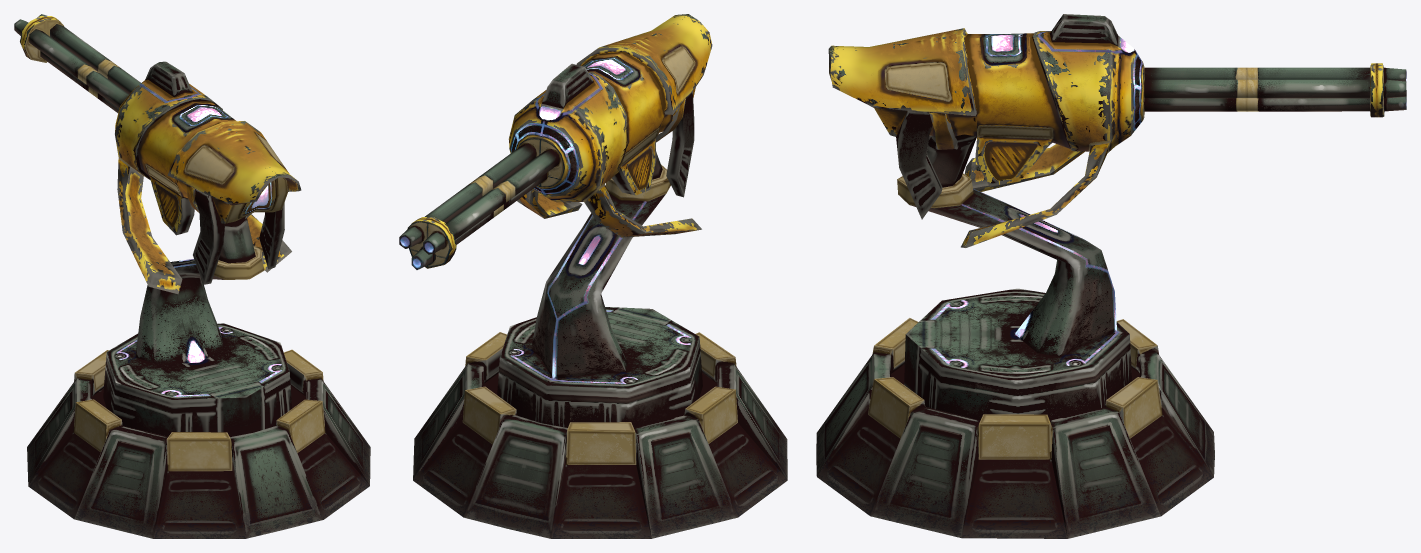
3 renders of one model, left to right at view 1: azimuth 30°, elevation 25°; view 2: azimuth 150°, elevation 25°; view 3: azimuth 270°, elevation 25°, orthographic. The views are drawn at different scales.
Visible parts, largest first — view 1: sentry_gun_Cylinder:003; view 2: sentry_gun_Cylinder:003; view 3: sentry_gun_Cylinder:003.
Boxes of the visible parts, x1,y1,x2,y2 form: sentry_gun_Cylinder:003: [14, 14, 370, 538]; sentry_gun_Cylinder:003: [399, 14, 787, 538]; sentry_gun_Cylinder:003: [816, 14, 1406, 538].
Bounding box in the file's own units: 147 × 178 × 218.
Materials: 1 (1 with a texture image).
